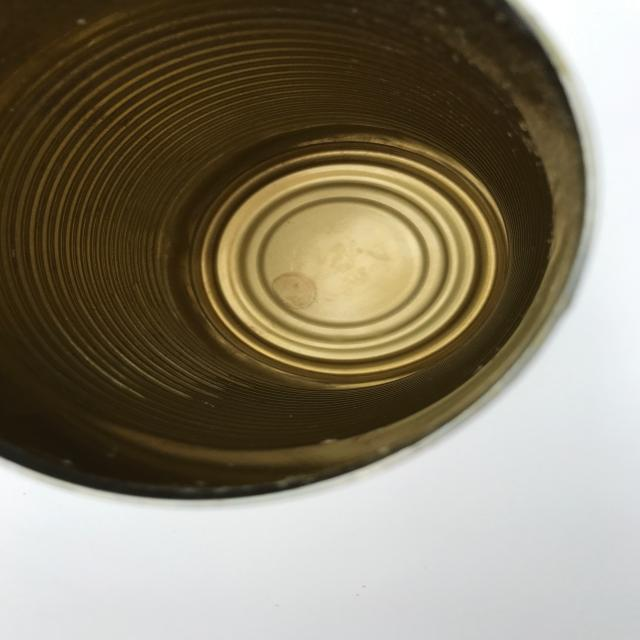metal: (0, 0, 593, 501)
